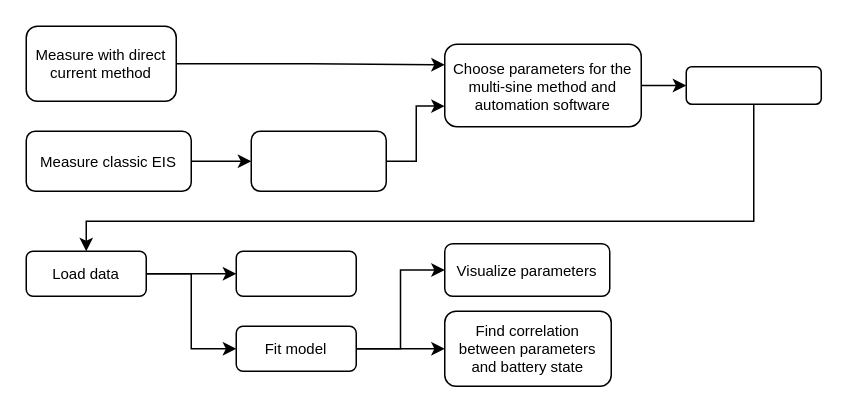
Some shapes in this 848 by 413 pixel diagram are drawn without their labels. Each missing label, with the box of its shape:
Prepare mutlisine: (250, 130, 386, 191)
Run experiment: (685, 65, 821, 104)
Visualize: (235, 250, 356, 296)
